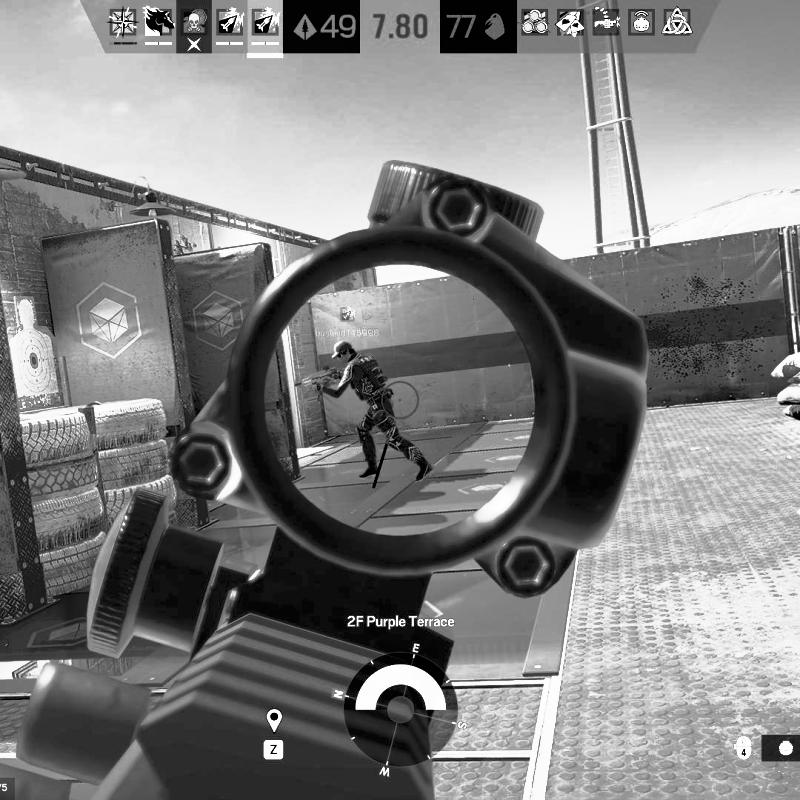Character: (294, 340, 435, 484)
Friend_label: (314, 306, 382, 338)
Head: (332, 340, 356, 364)
